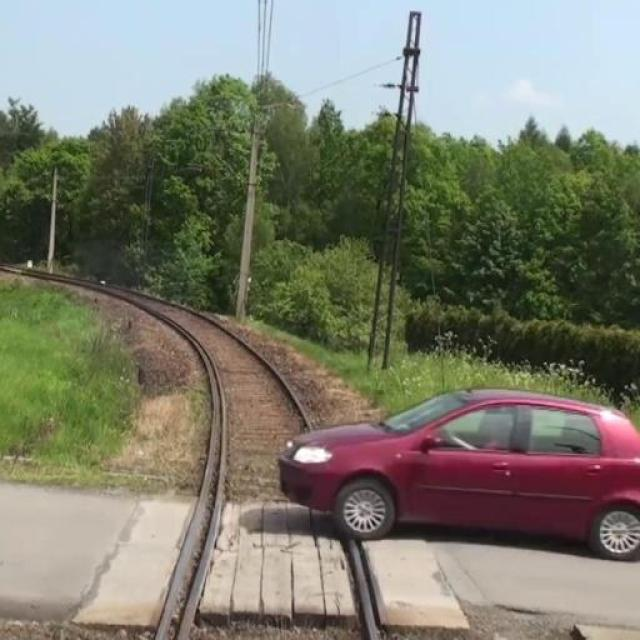vehicle: (274, 376, 640, 556)
